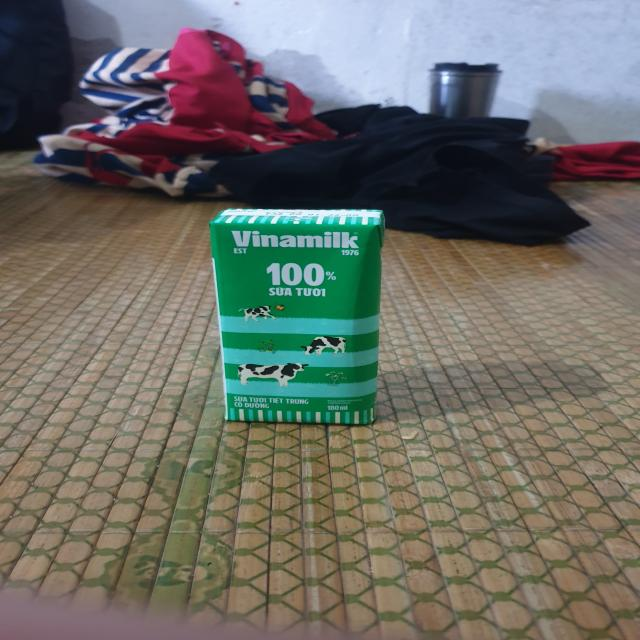Vina: (221, 211, 396, 427)
